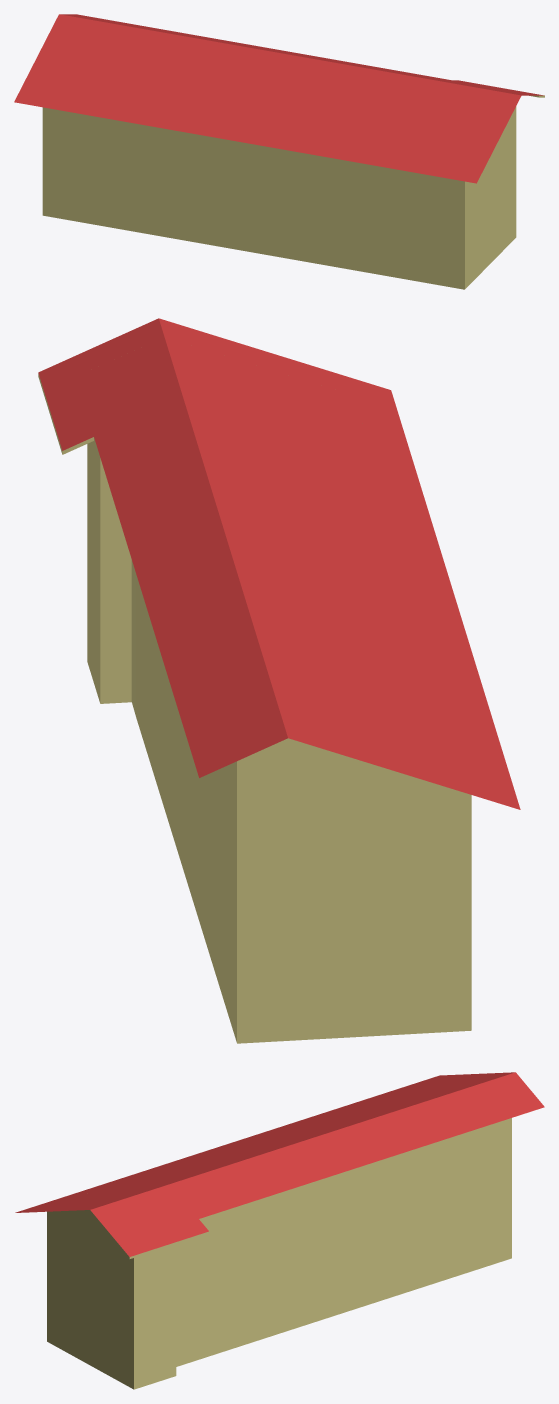
3 renders of one model, top to bottom at view 1: azimuth 30°, elevation 25°; view 2: azimuth 150°, elevation 25°; view 3: azimuth 270°, elevation 25°, orthographic. The views are drawn at different scales.
Bounding box in the file's own units: 20.31 × 22.61 × 8.08.
